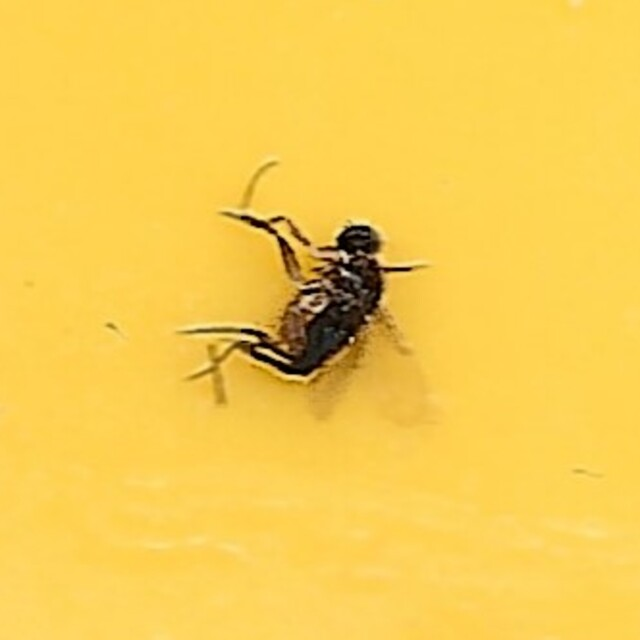Brachycera: (193, 198, 447, 442)
